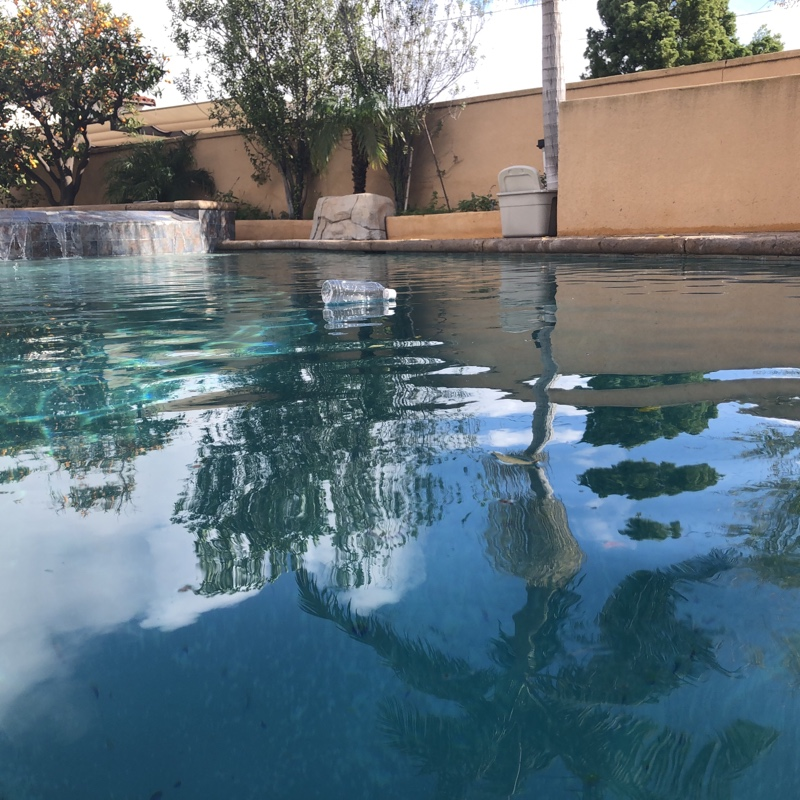Plastic Bottle: (319, 277, 400, 308)
